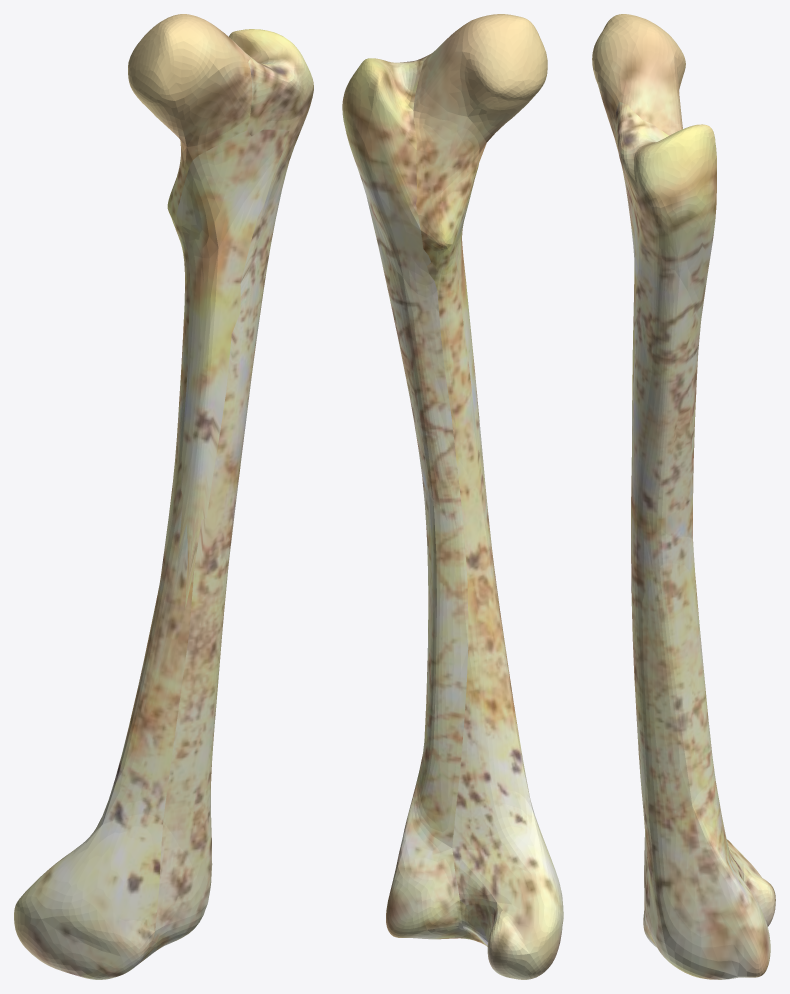
File: leg.obj
3 views of the same model, side by side, from view 1: azimuth 30°, elevation 25°; view 2: azimuth 150°, elevation 25°; view 3: azimuth 270°, elevation 25° (orthographic). The views are drawn at different scales.
Visible parts, largest first — view 1: Esqueleto_Esqueleto1_Resto.041; view 2: Esqueleto_Esqueleto1_Resto.041; view 3: Esqueleto_Esqueleto1_Resto.041.
Part boxes in pixels (x1,y1,x2,y2): Esqueleto_Esqueleto1_Resto.041: [14, 14, 313, 979]; Esqueleto_Esqueleto1_Resto.041: [342, 14, 563, 979]; Esqueleto_Esqueleto1_Resto.041: [592, 14, 775, 979].
Size of the model in its own units: 0.337 by 1.22 by 0.2119.
Materials: 1 (1 with a texture image).
